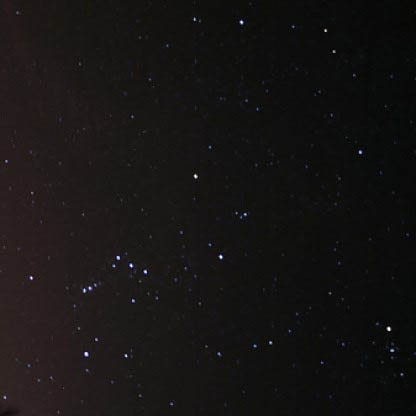Orion: (183, 165, 204, 191), (209, 247, 231, 269), (139, 262, 159, 283), (79, 346, 95, 365), (24, 266, 36, 284), (108, 248, 122, 262), (126, 256, 135, 273)
